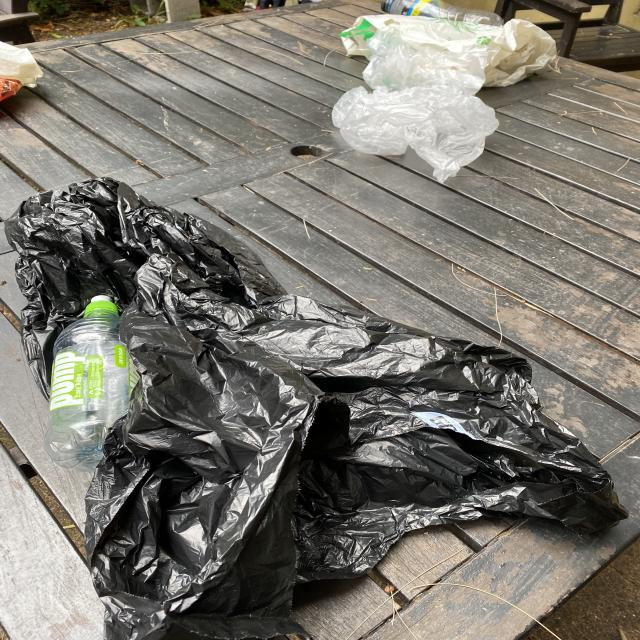bag: (5, 177, 631, 640), (332, 86, 500, 184), (339, 13, 558, 88)
bottle: (44, 295, 140, 471), (380, 0, 503, 26)
